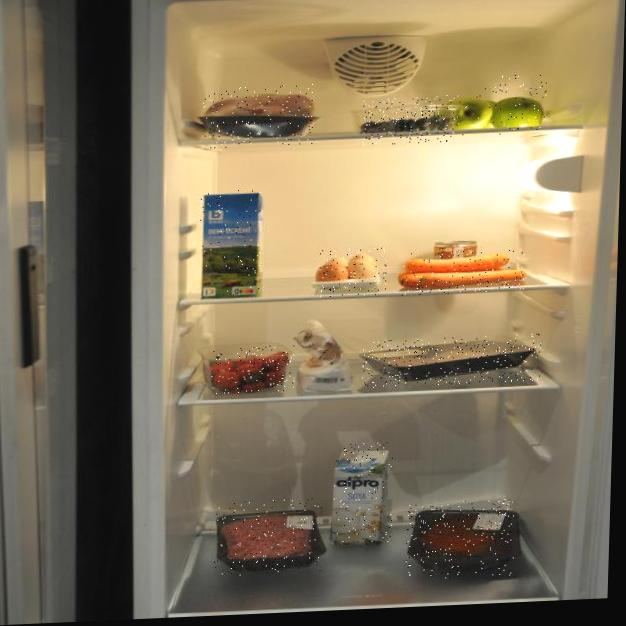apple: (482, 73, 550, 137), (435, 92, 504, 138)
carrots: (402, 248, 525, 296)
chicken: (201, 84, 314, 149)
eggs: (319, 247, 387, 297)
meat: (362, 333, 541, 388), (405, 498, 516, 580), (214, 498, 323, 577)
milk: (198, 189, 263, 300), (332, 442, 394, 544)
olive: (362, 95, 461, 146)
tomatoes: (211, 344, 295, 394)
